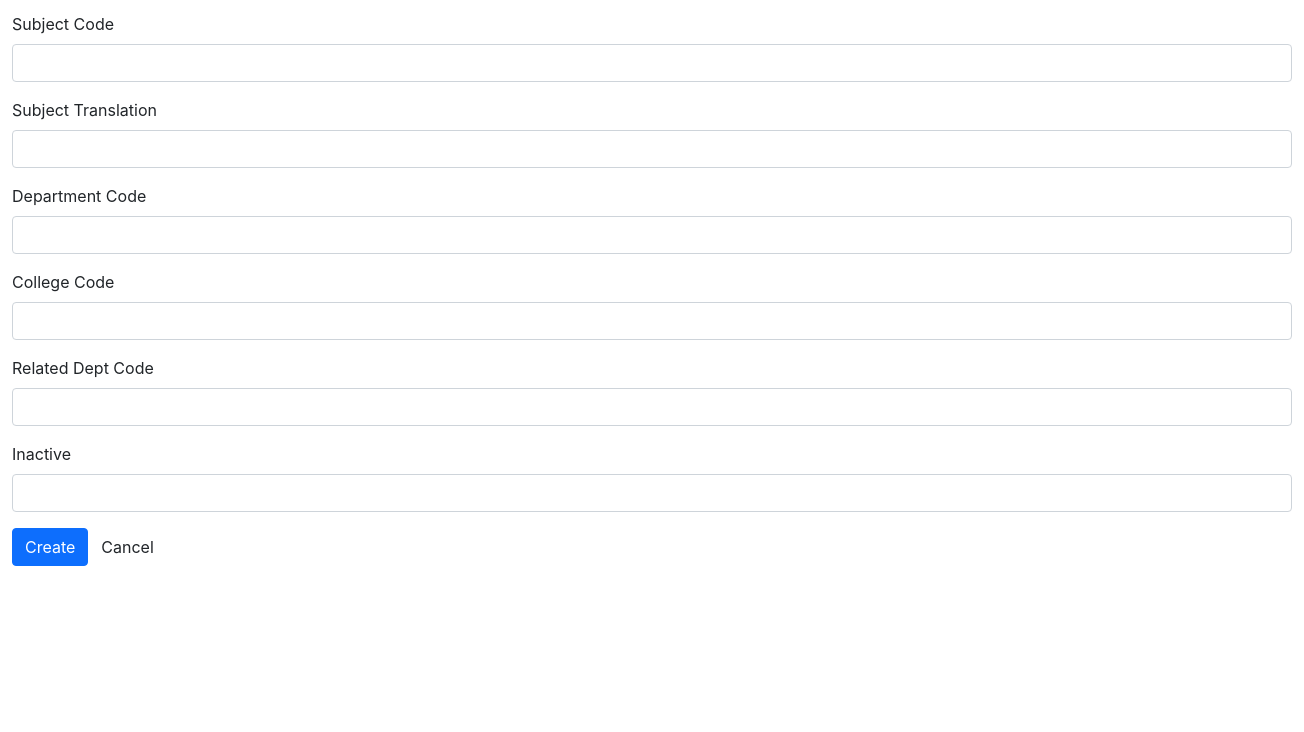
Scenario: UCSBSubjectForm tests › Correct Error messsages on bad input
Check: the field with test id "UCSBSubjectForm-subjectCode" is shown, box [12,44,1292,82]
Check: the field with test id "UCSBSubjectForm-subjectTranslation" is shown, box [12,130,1292,168]
Step 1. Type "bad-input" into the field with test id "UCSBSubjectForm-inactive" → [652, 493], box [12,474,1292,512]
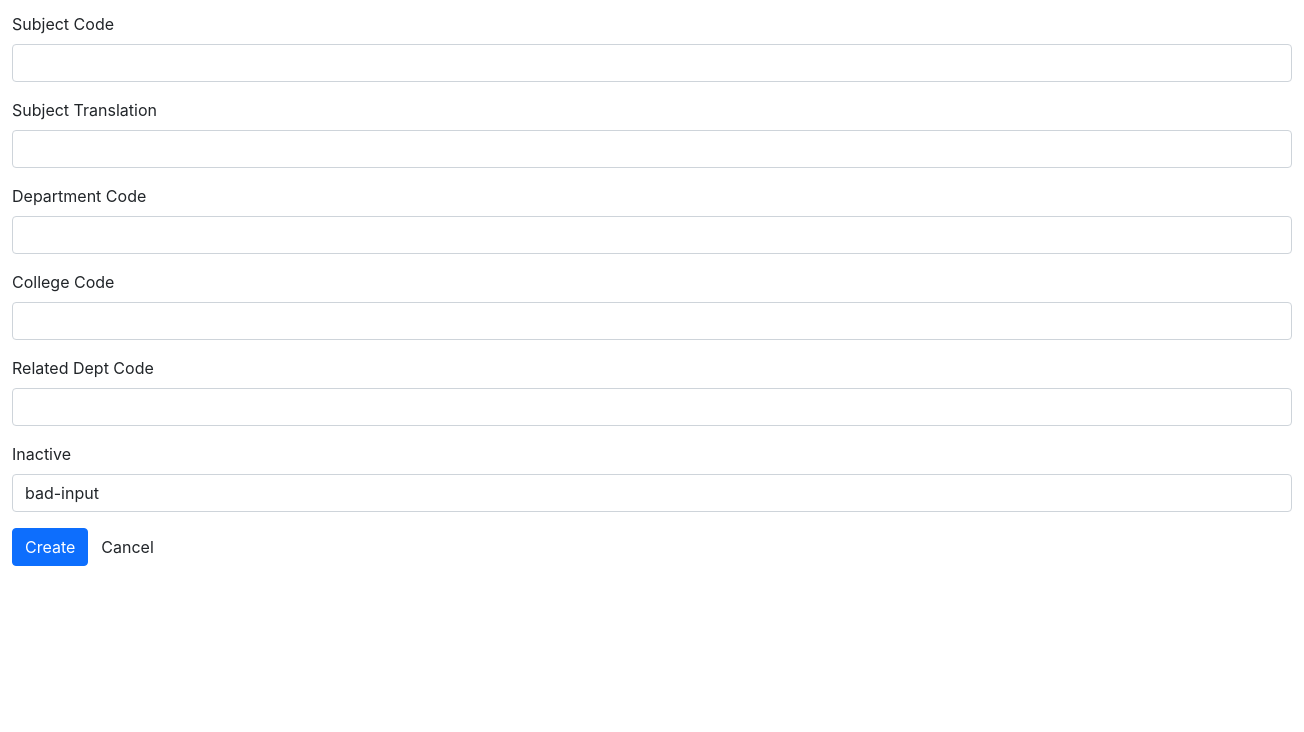
Step 2. Click the button with test id "UCSBSubjectForm-submit" → [50, 547], box [12,528,88,566]
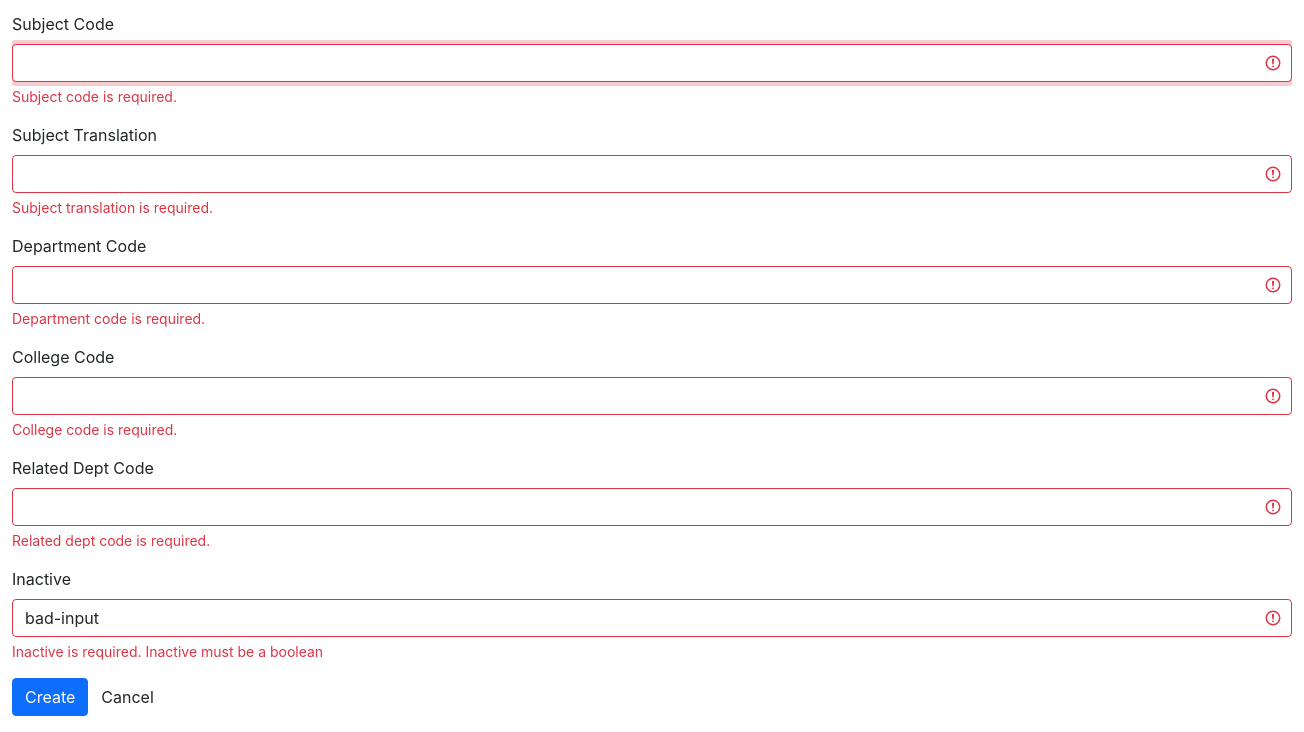
Check: the text "Inactive is required. Inactive must be a boolean" is shown, box [12,643,323,660]
